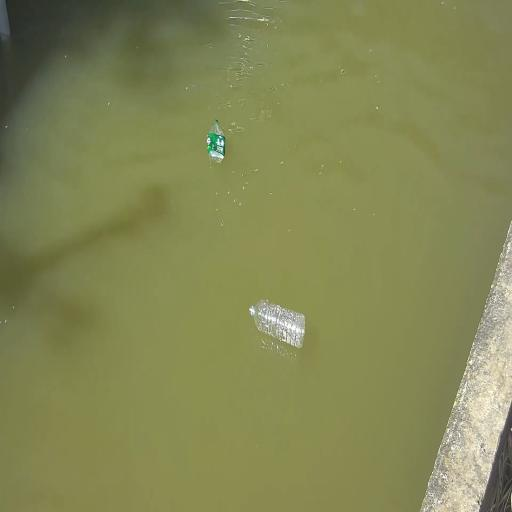plastic: (249, 298, 308, 350), (206, 116, 227, 165)
